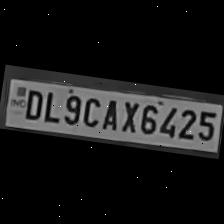2: (174, 106, 198, 142)
4: (156, 102, 179, 138)
5: (194, 108, 218, 142)
6: (134, 100, 158, 136)
9: (58, 90, 84, 127)
A: (98, 96, 121, 132)
C: (78, 92, 102, 128)
D: (20, 86, 44, 120)
L: (41, 88, 62, 123)
X: (116, 98, 140, 134)
